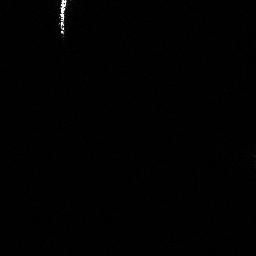ship: (56, 1, 68, 37)
